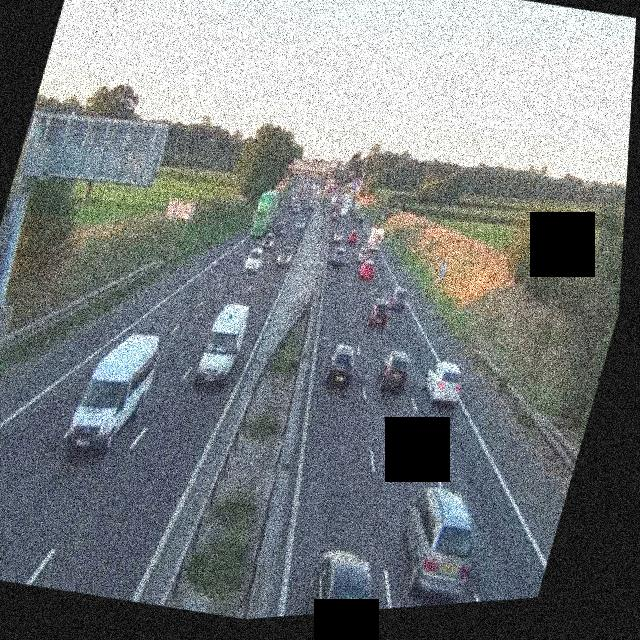car: (383, 477, 492, 608), (298, 542, 392, 615), (417, 355, 468, 411), (370, 346, 415, 397), (321, 339, 361, 389), (366, 295, 394, 329), (385, 283, 411, 314), (241, 246, 265, 277), (356, 256, 378, 282), (329, 245, 347, 269), (273, 246, 292, 268), (261, 231, 279, 252), (356, 245, 371, 264), (273, 219, 287, 238), (293, 215, 307, 232), (330, 227, 344, 244), (347, 228, 360, 245), (305, 200, 315, 212)
truck: (60, 321, 165, 466), (192, 297, 254, 392), (250, 188, 281, 240), (364, 225, 385, 258), (327, 193, 341, 216)
